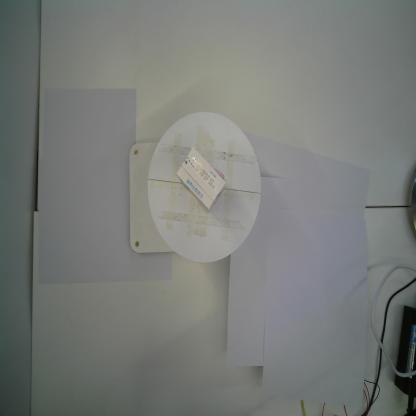Milk: (176, 146, 226, 214)
